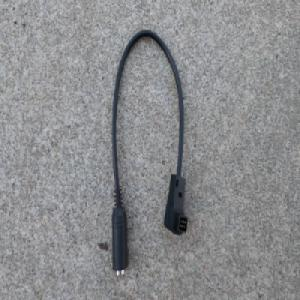Wire: (110, 27, 189, 279)
